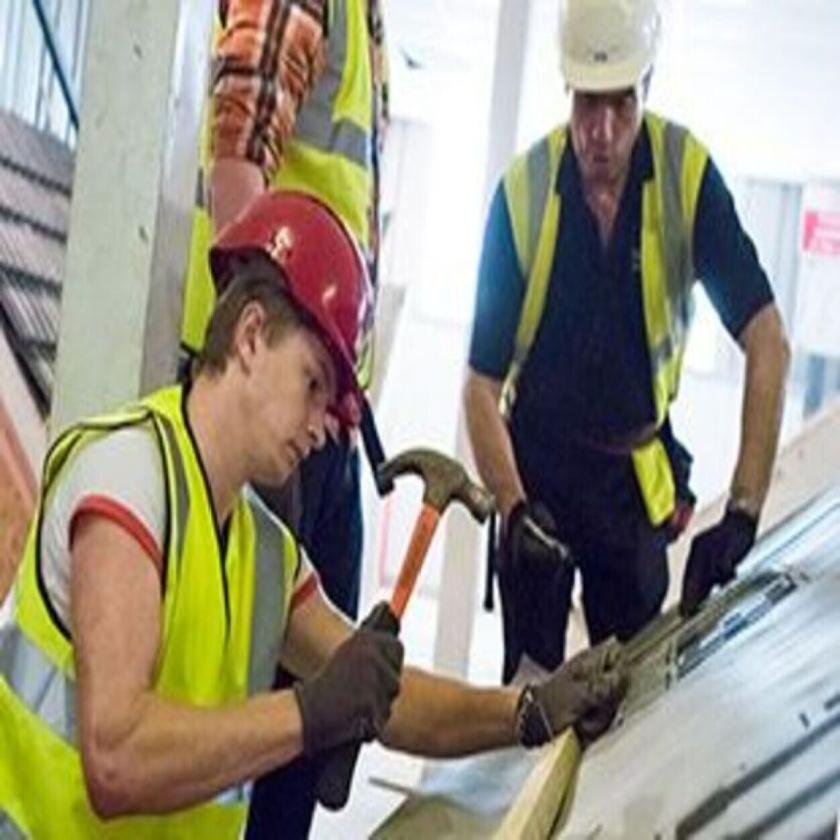Con_casco: (187, 182, 373, 518), (552, 0, 669, 212)
